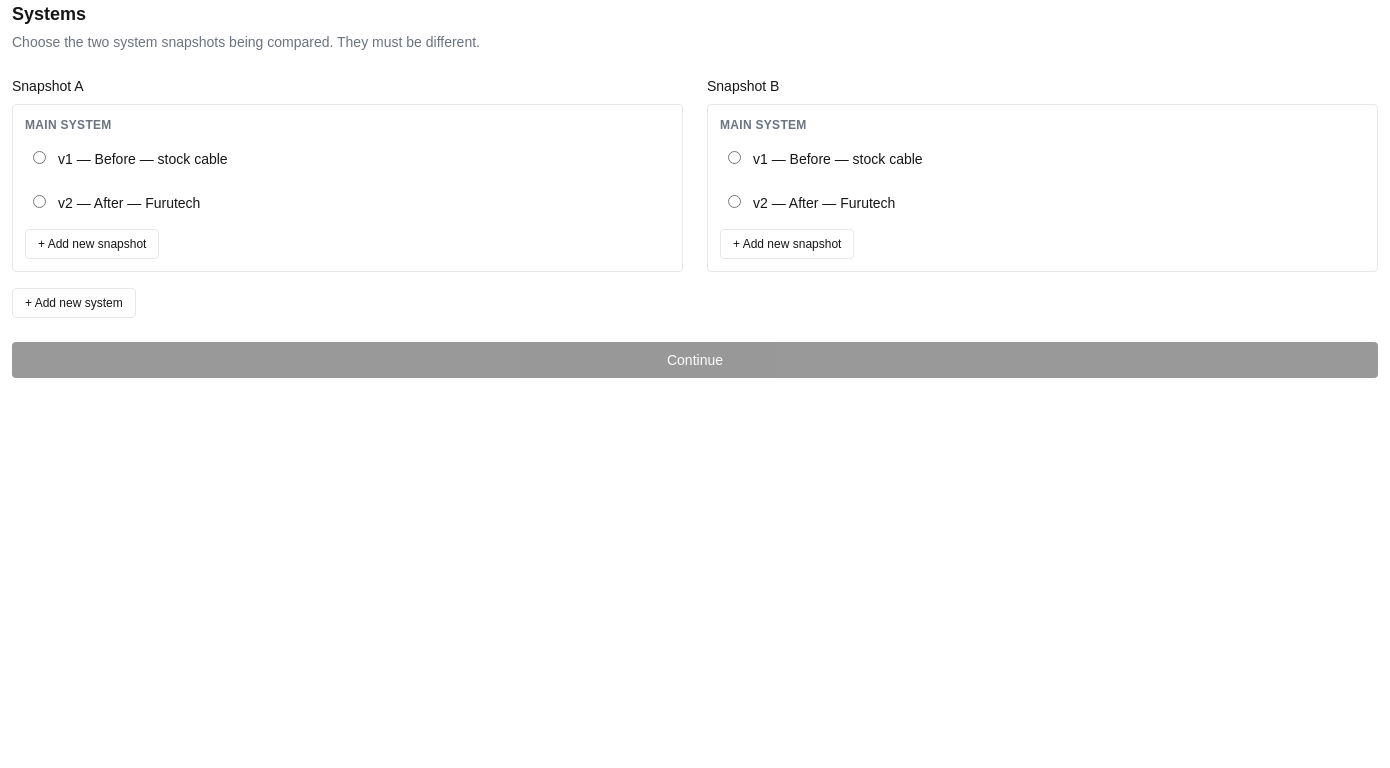
StepSnapshots › Inline form — open and close › hides the mini-form and restores the add link after clicking Cancel
Click the button "+ Add new snapshot" below "Snapshot A" at (92, 244), box [25,229,159,259]
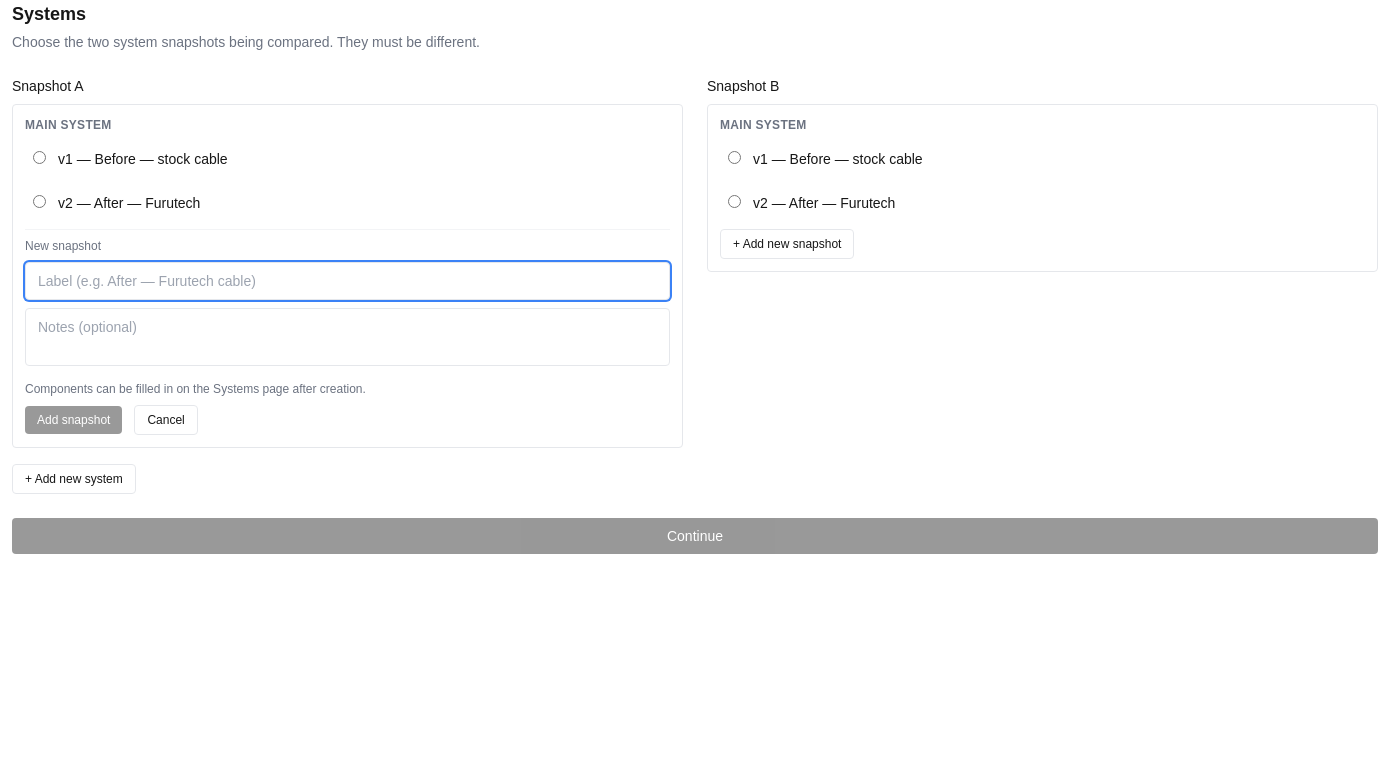
Result: the field with placeholder "Label (e.g. After — Furutech cable)" is shown at [25,262,670,300]
Click the button "Cancel" at (166, 420), box [134,405,198,435]
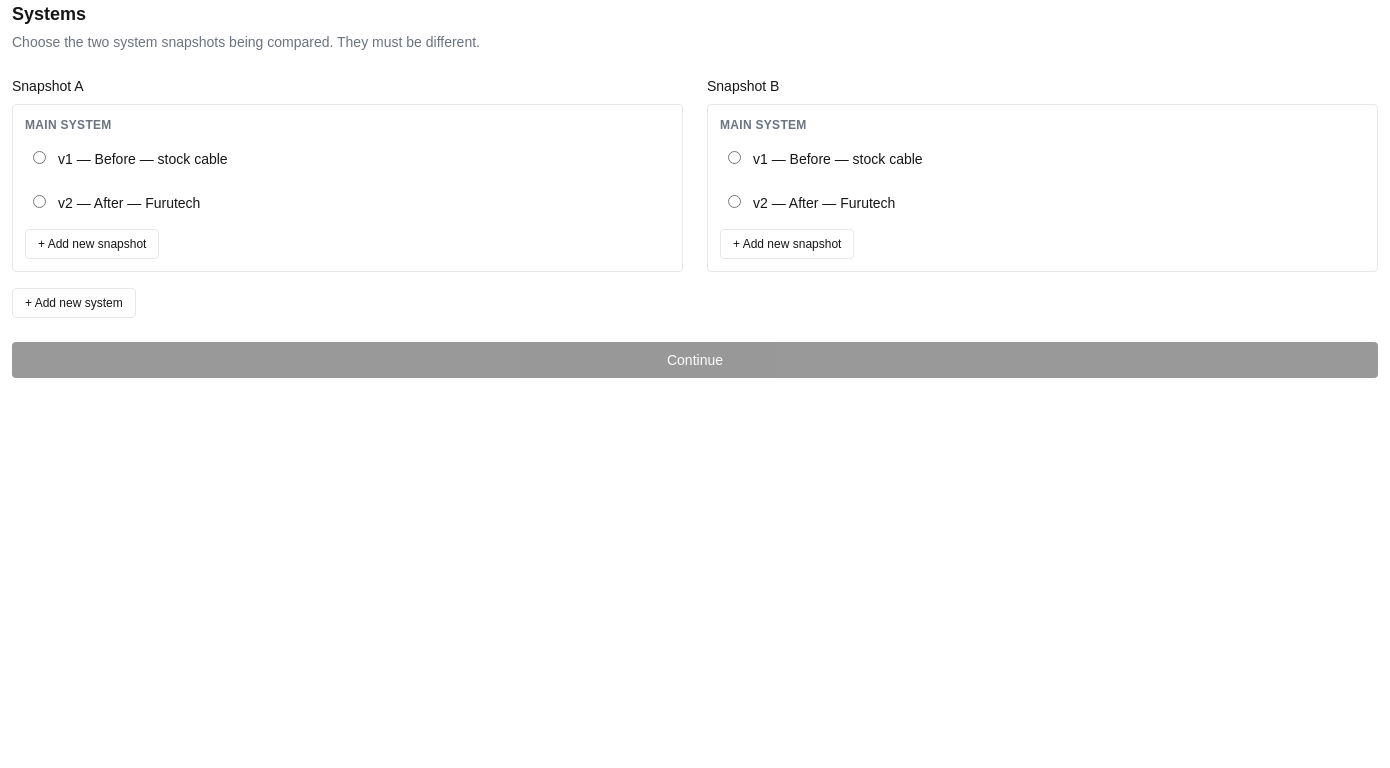
Expected: the field with placeholder "label (e.g." is not shown
Result: the number of buttons "+ Add new snapshot" is 2 at [25,229,159,259]; [720,229,854,259]
